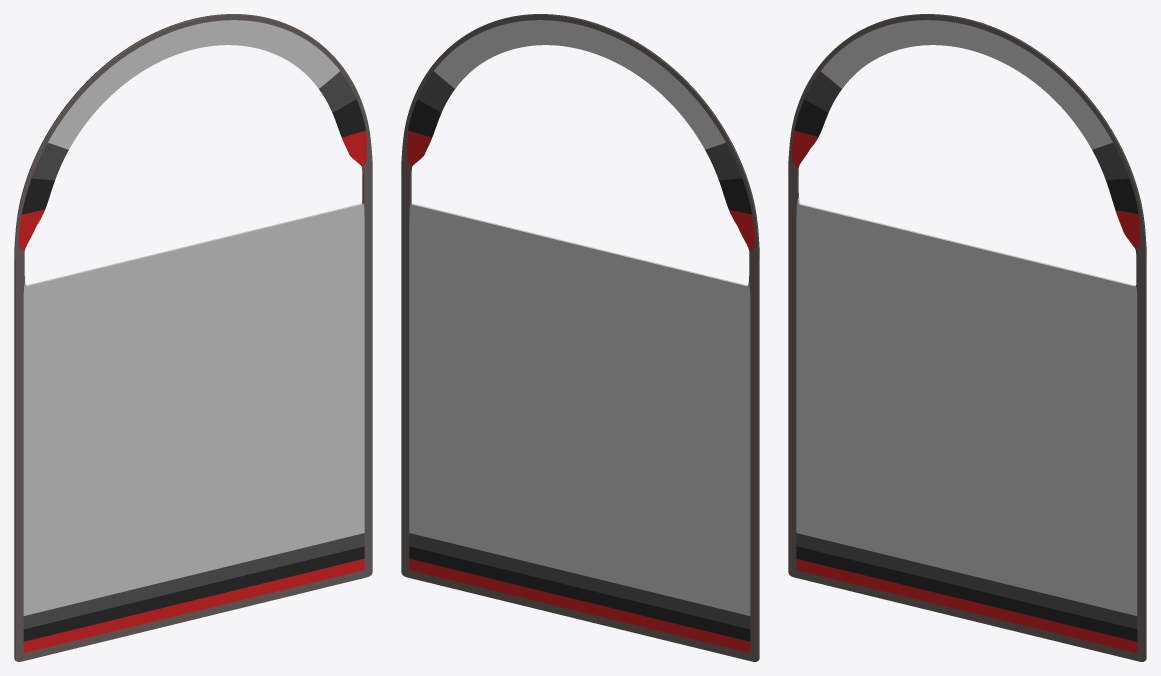
File: high_gate.fbx
The picture shows the model from 3 angles, left to right: view 1: azimuth 30°, elevation 25°; view 2: azimuth 150°, elevation 25°; view 3: azimuth 330°, elevation 25°; orthographic projection.
Visible parts, largest first — view 1: каркас; view 2: каркас; view 3: каркас.
Boxes of the visible parts, bbox=[...] form: каркас: bbox=[14, 14, 372, 661]; каркас: bbox=[401, 14, 759, 661]; каркас: bbox=[788, 14, 1146, 661].
Bounding box in the file's own units: 994 × 1594 × 5.79.
